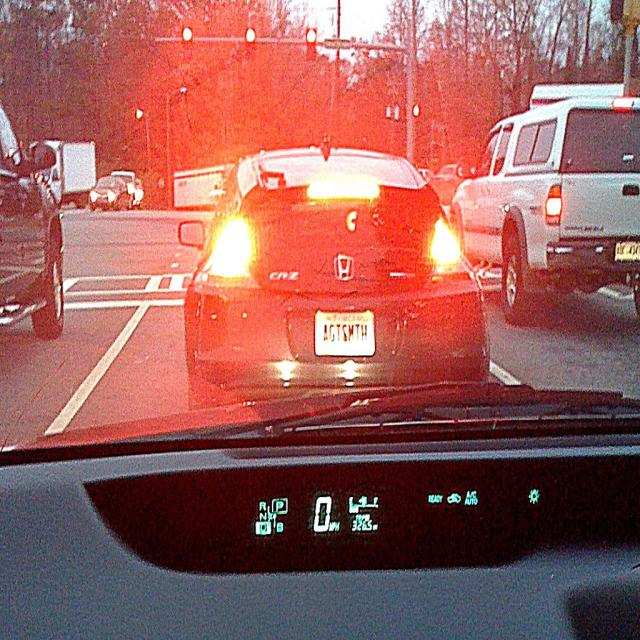car: (86, 173, 128, 208)
